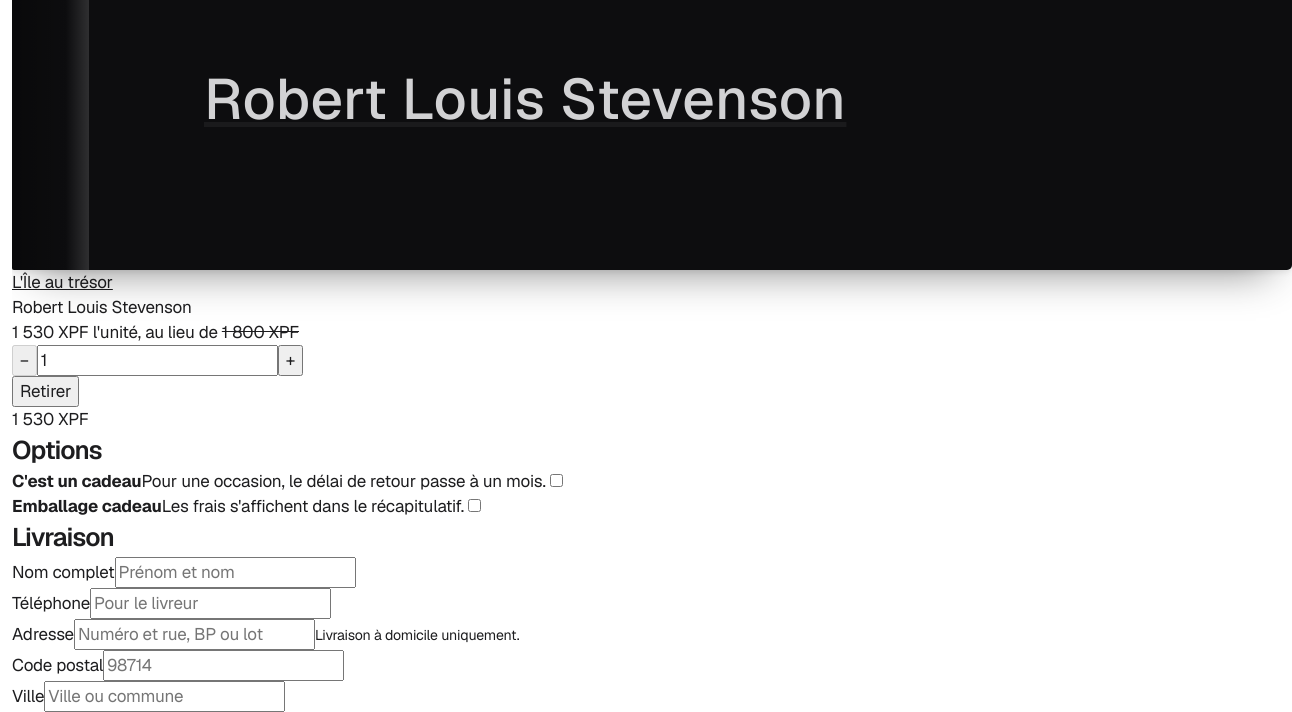
Test: page Panier › change la quantité sans recharger les produits
(page scrolled)
Expected: the link "L'Île au trésor" is shown, x1=12 y1=271 x2=113 y2=293
Click the button named "Ajouter un exemplaire" at (290, 360), box x1=278 y1=345 x2=303 y2=376
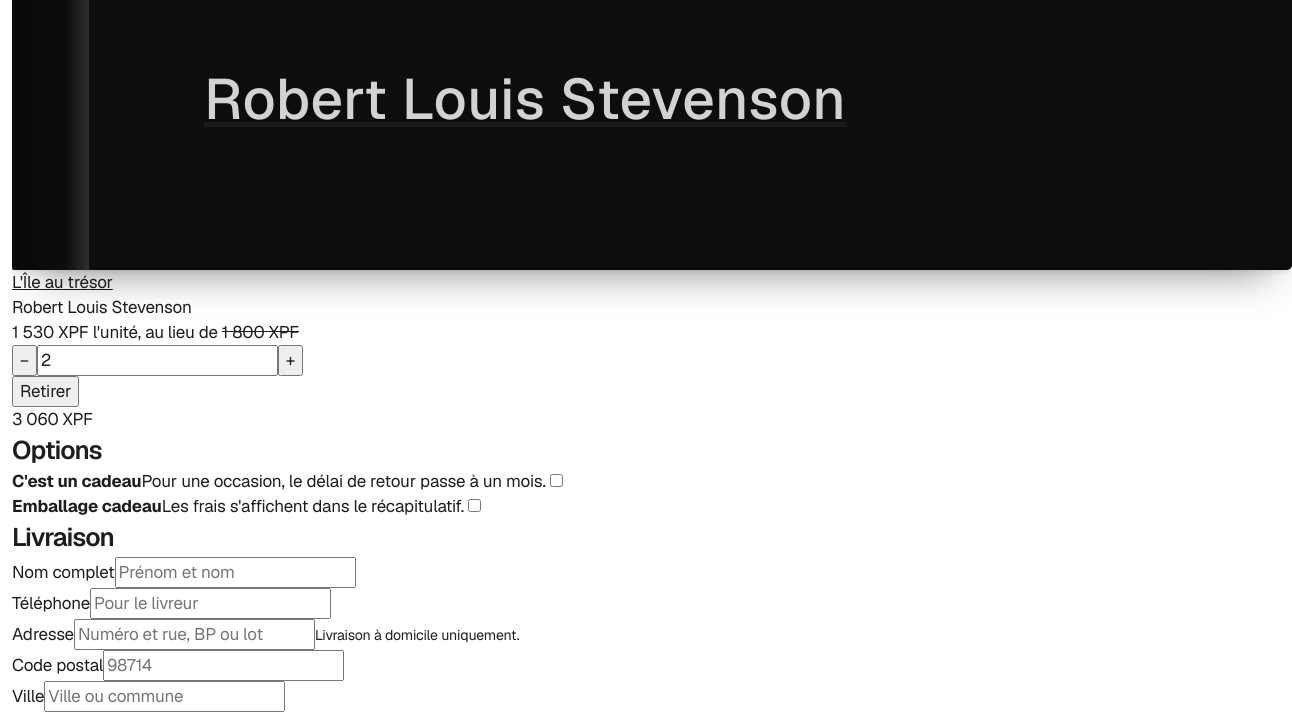
Expected: the field named "Quantité de L'Île au trésor" holds "2", x1=37 y1=345 x2=278 y2=376
Expected: the text "3 060 XPF" is shown, x1=12 y1=408 x2=93 y2=430
